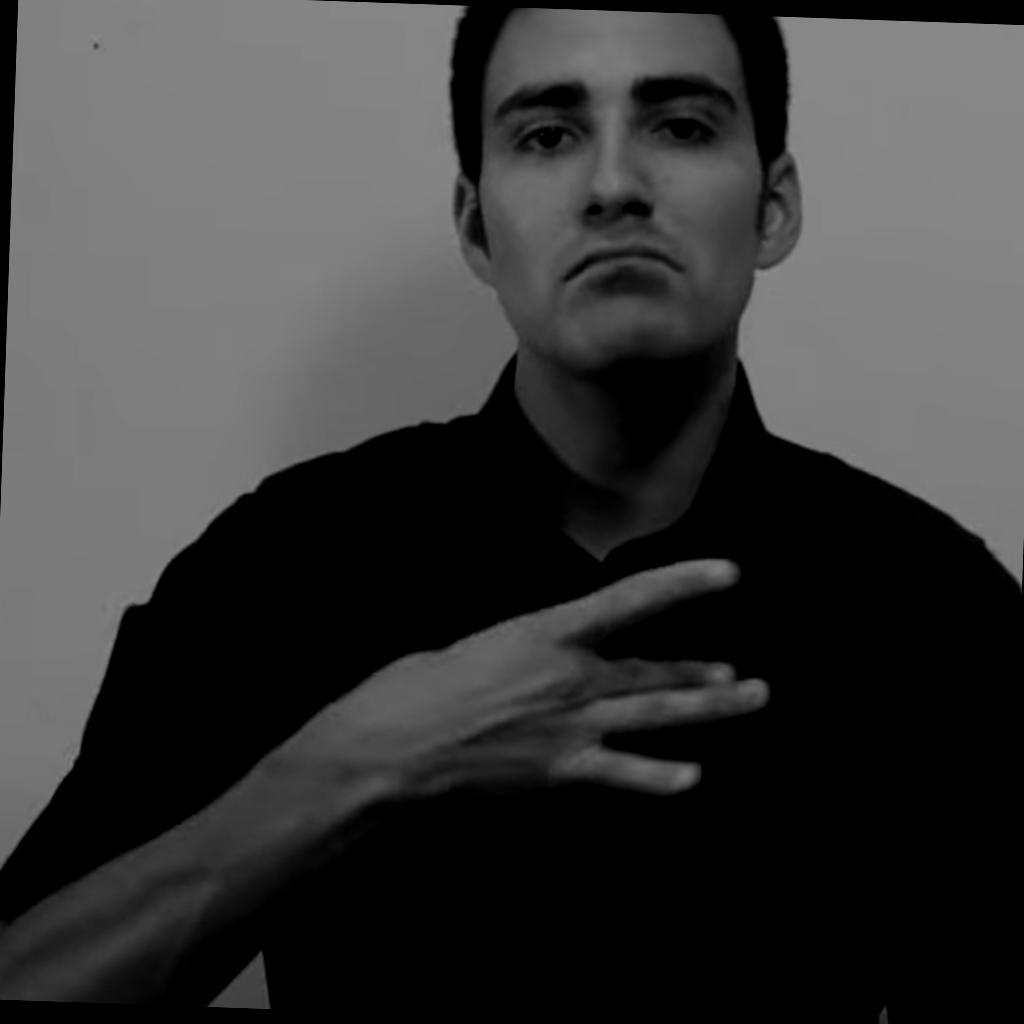like: (422, 548, 774, 812)
